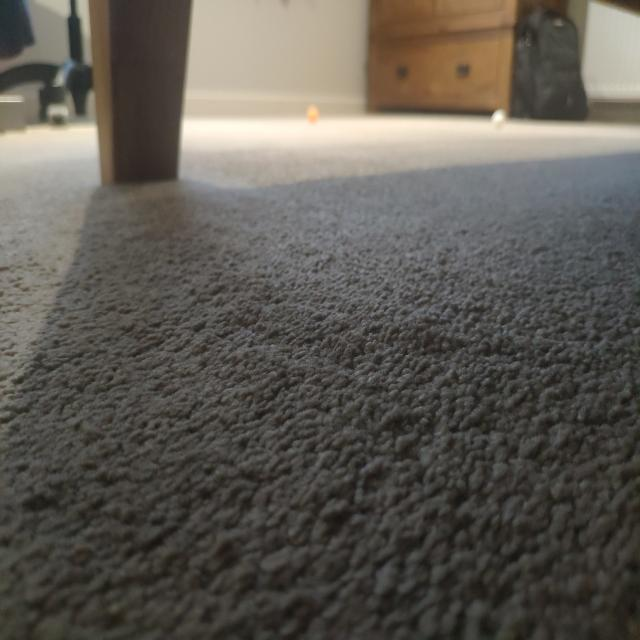oball: (304, 104, 320, 126)
